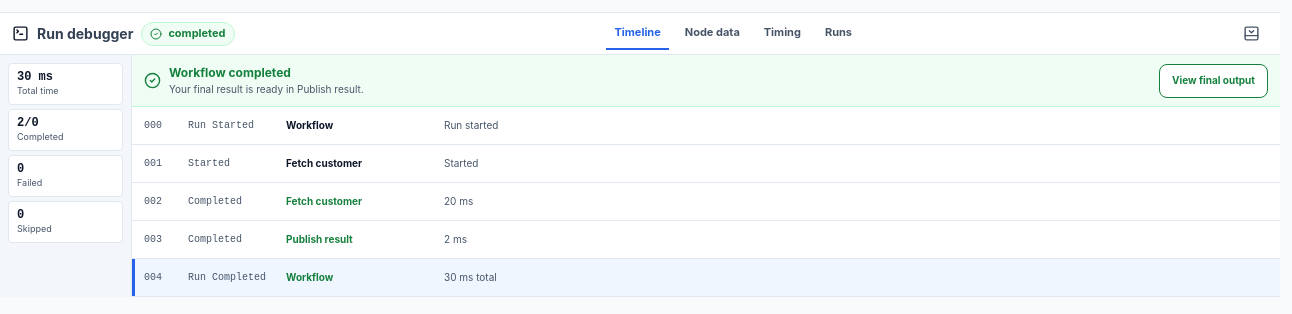
Test case: DebuggerPanel › shows selected node input and an exact timing table
Click the button named "001StartedFetch customer". click: (209, 164)
box: [132,145,1280,183]
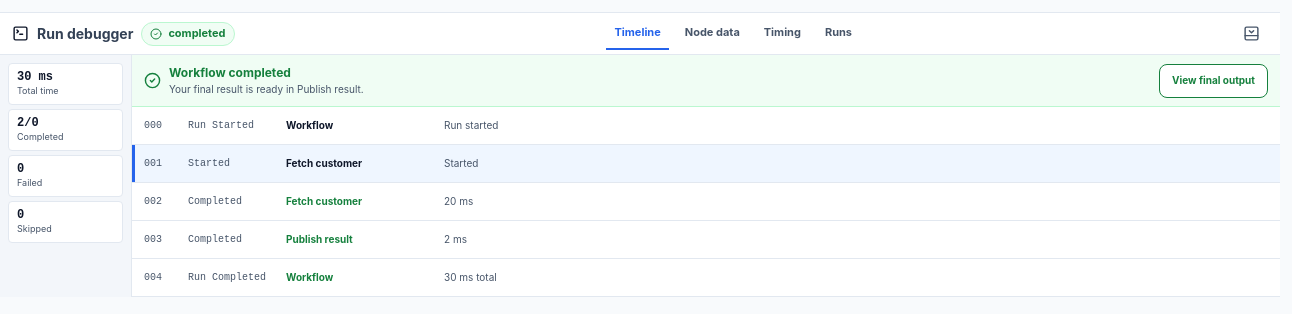
Click the tab "Node data". click: (712, 34)
box: [677,18,748,50]
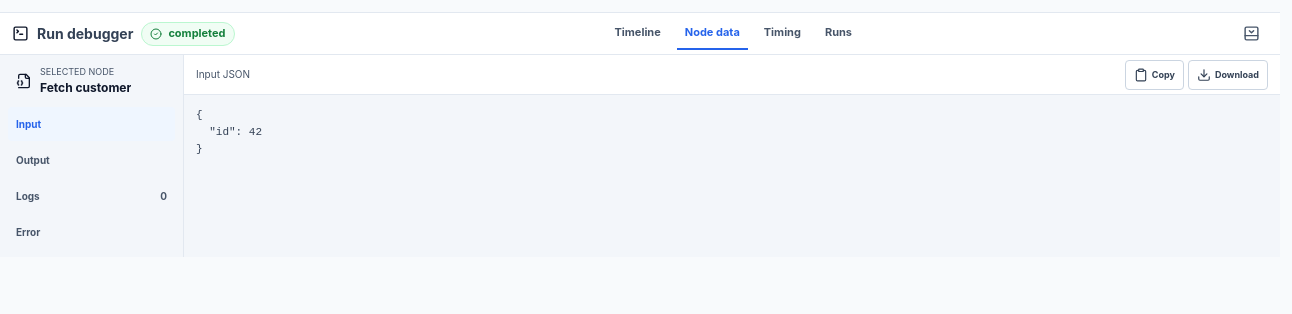
Result: the text "{ \"id\": 42 }" is shown at [196,109,262,155]
Click the tab "Timing". click: (782, 34)
box: [756,18,809,50]
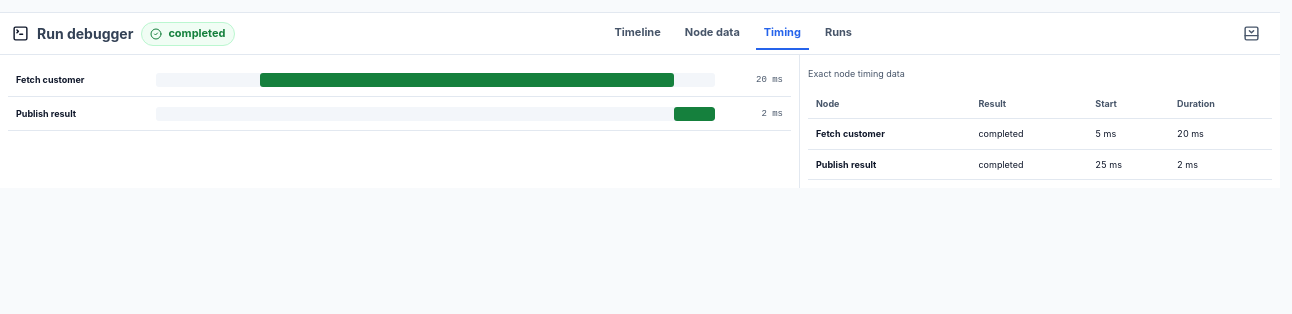
Result: the table "Exact node timing data" is shown at [808,63,1272,180]
Result: the text "20 ms" is shown at [756,74,783,84]
